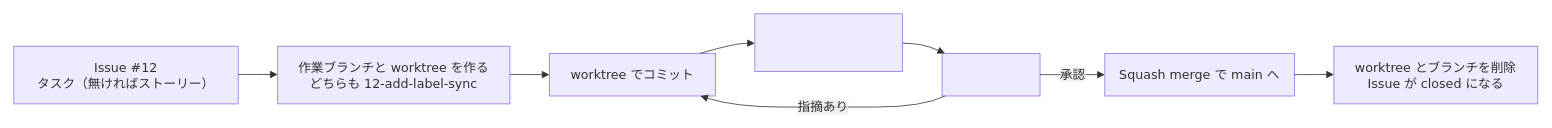
Some shapes in this 1552 by 128 pixel diagram are drawn without their labels. Each missing label, with the centre of its shape:
"PR を作成 本文に Closes #12" goes at [828,42].
"レビュー" goes at [990,74].
